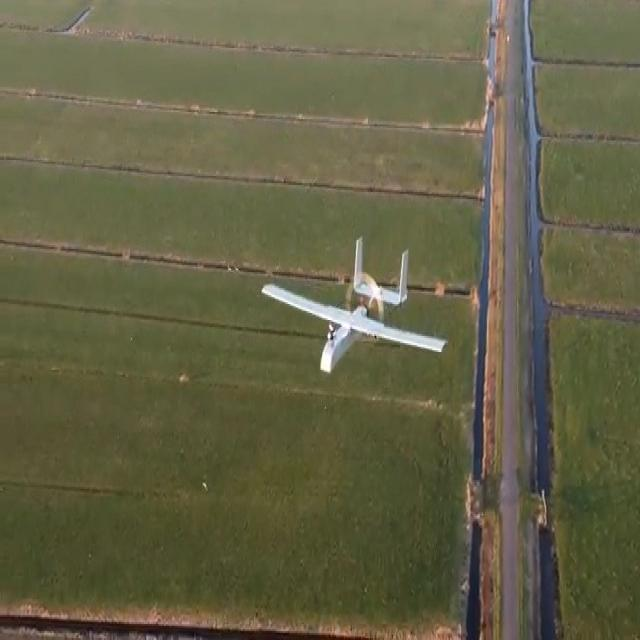iha: (261, 225, 446, 387)
